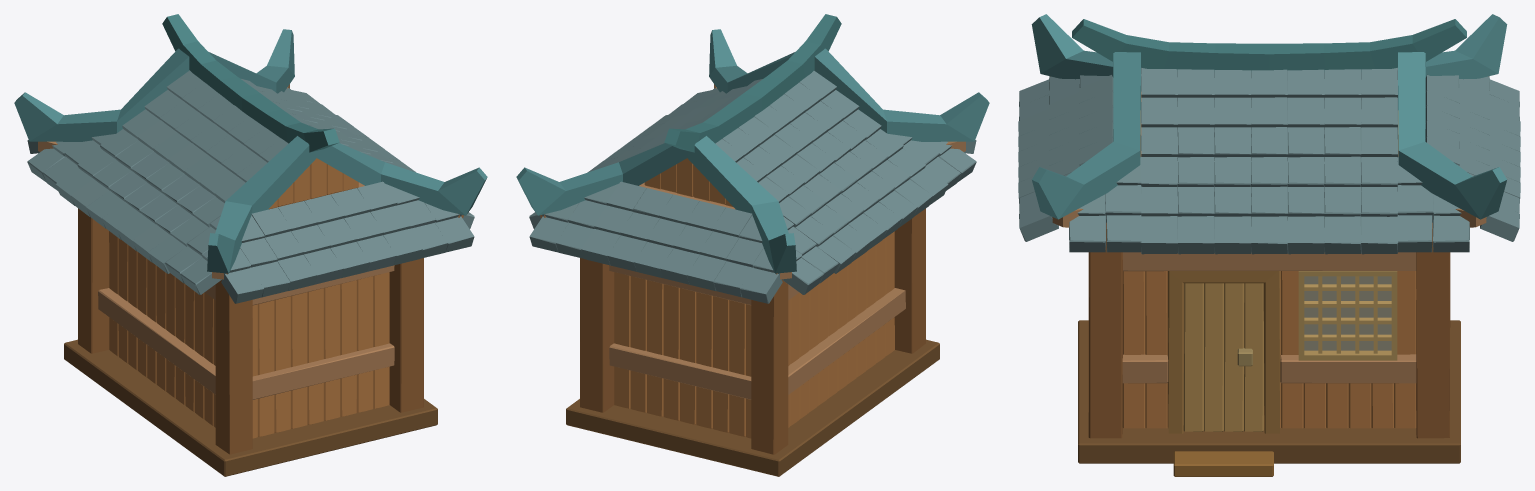
Rendered from House1.fbx.
3 views of the same model, side by side, from view 1: azimuth 30°, elevation 25°; view 2: azimuth 150°, elevation 25°; view 3: azimuth 270°, elevation 25° (orthographic). The views are drawn at different scales.
Parts seen in each view (by area): view 1: 瓦片.001, 墙面.001, 屋檐.001, 柱子, 地基, 梁.003, 屋檐, 木板, 梁.001; view 2: 瓦片.001, 墙面.001, 屋檐.001, 柱子, 地基, 梁.003, 屋檐, 木板, 梁.001, 顶; view 3: 瓦片.001, 屋檐.001, 墙面.001, 地基, 柱子, 门面, 屋檐, 门框, 梁.001, 梁.003, 窗花, 窗框.001 (+3 smaller).
Boxes of the visible parts, box(x1,y1,x2,y2) form: 瓦片.001: box(27, 70, 474, 303); 墙面.001: box(109, 231, 389, 438); 屋檐.001: box(14, 29, 487, 273); 柱子: box(78, 208, 423, 454); 地基: box(64, 339, 437, 476); 梁.003: box(98, 288, 394, 399); 屋檐: box(162, 14, 339, 152); 木板: box(268, 158, 358, 209); 梁.001: box(205, 265, 394, 305); 瓦片.001: box(529, 70, 976, 303); 墙面.001: box(614, 231, 894, 438); 屋檐.001: box(516, 29, 989, 273); 柱子: box(580, 208, 925, 454); 地基: box(566, 339, 939, 476); 梁.003: box(609, 288, 905, 399); 屋檐: box(664, 14, 841, 152); 木板: box(644, 158, 733, 207); 梁.001: box(609, 265, 798, 305); 顶: box(540, 84, 965, 279); 瓦片.001: box(1018, 67, 1520, 254); 屋檐.001: box(1031, 14, 1507, 219); 墙面.001: box(1122, 271, 1416, 428); 地基: box(1078, 320, 1460, 463); 柱子: box(1088, 229, 1450, 438); 门面: box(1183, 283, 1263, 431); 屋檐: box(1072, 19, 1466, 72); 门框: box(1168, 271, 1280, 433); 梁.001: box(1123, 252, 1416, 271); 梁.003: box(1122, 354, 1416, 383); 窗花: box(1304, 276, 1391, 350); 窗框.001: box(1304, 276, 1391, 353).
Bounding box in the file's own units: 2.65 × 2.85 × 3.42.
